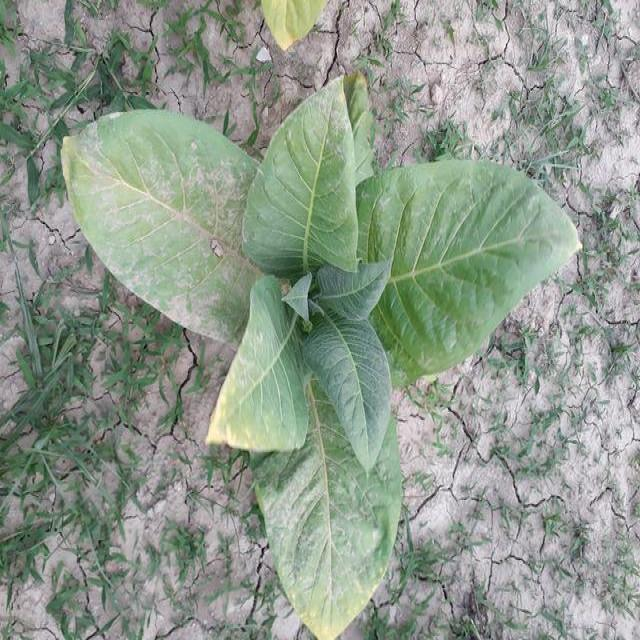crop: (58, 75, 584, 640)
